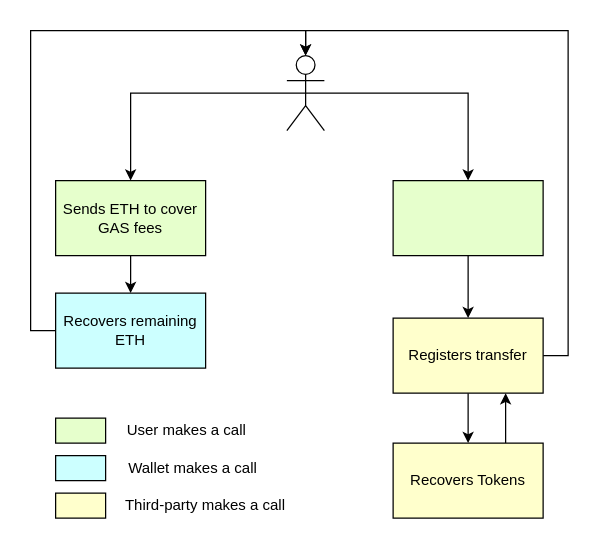
Some shapes in this 600 by 540 pixel diagram are drawn without their labels. The centre of each missing label's shape, as x and y in pixels:
"Sends tokens" goes at point (467, 217).
"You" goes at point (305, 92).
